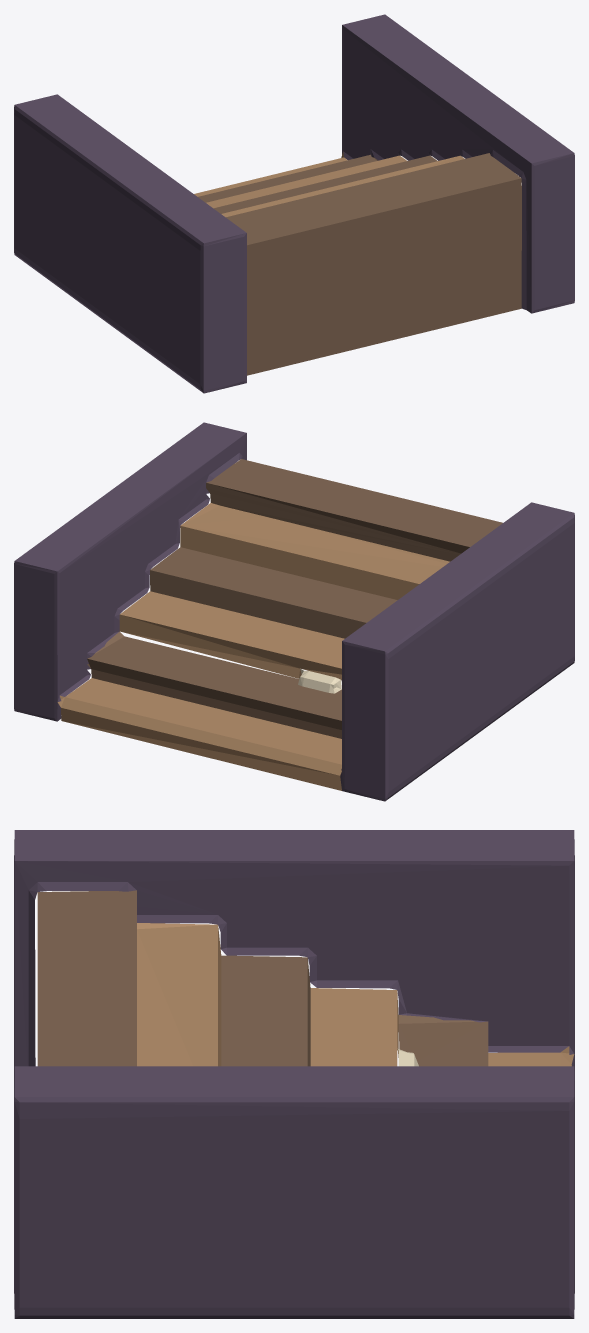
The model's file is entrance_stairs.glb.
The picture shows the model from 3 angles, top to bottom: view 1: azimuth 30°, elevation 25°; view 2: azimuth 150°, elevation 25°; view 3: azimuth 270°, elevation 25°; orthographic projection. The views are drawn at different scales.
Parts seen in each view (by area): view 1: entrance_stairs; view 2: entrance_stairs; view 3: entrance_stairs.
Boxes of the visible parts, x1,y1,x2,y2 form: entrance_stairs: (14, 14, 574, 393); entrance_stairs: (14, 422, 574, 801); entrance_stairs: (14, 830, 574, 1318).
Bounding box in the file's own units: 3.64 × 1.4 × 3.2.
